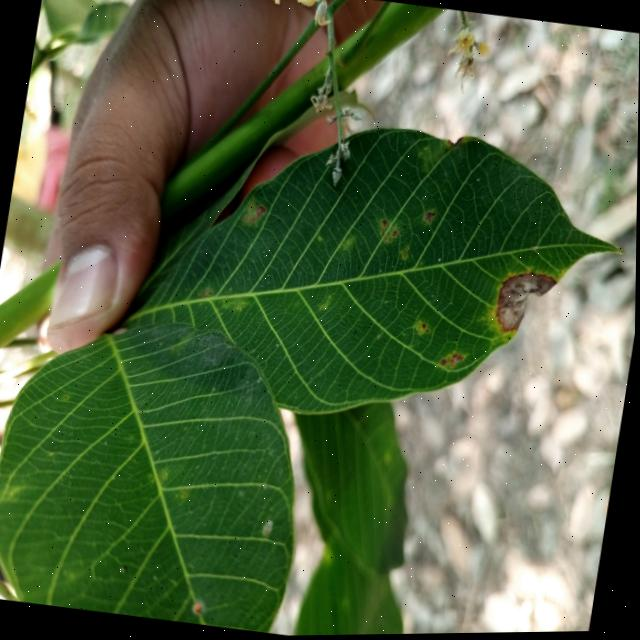Colletotrichum: (297, 303, 299, 305)
Leaf-Blight: (494, 268, 559, 338)
